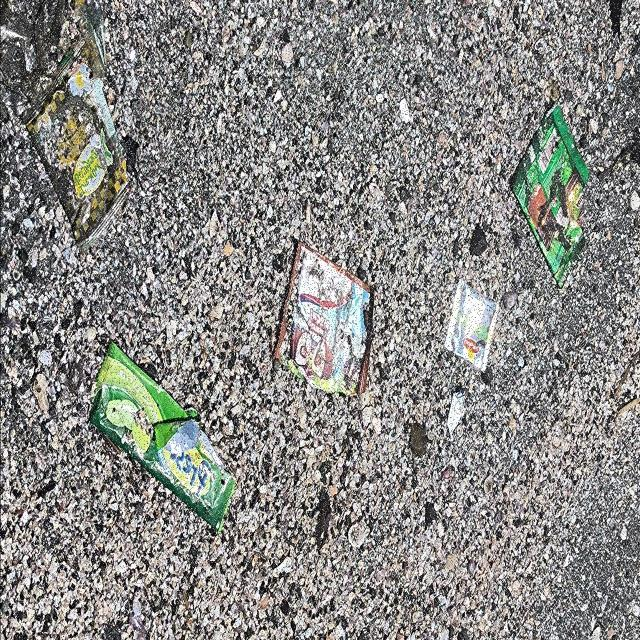plastic_waste: (88, 337, 236, 535), (22, 33, 133, 256), (274, 242, 377, 398), (512, 105, 592, 292), (444, 279, 500, 374)
